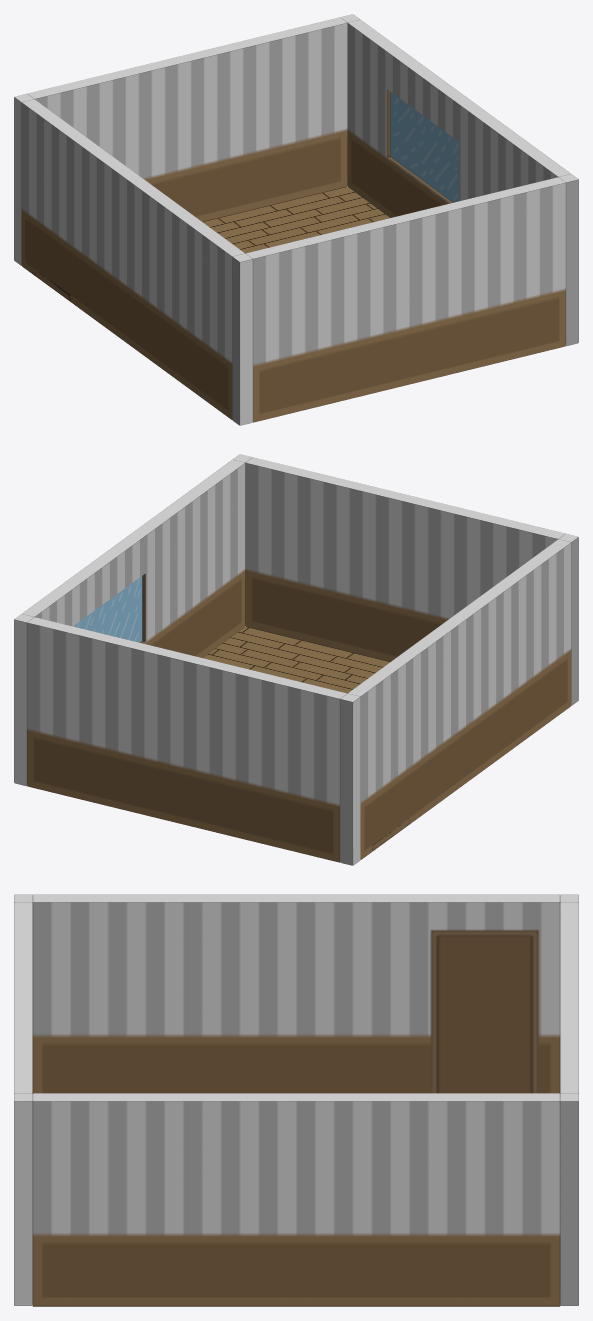
File: bedroom_empty.obj
The picture shows the model from 3 angles, top to bottom: view 1: azimuth 30°, elevation 25°; view 2: azimuth 150°, elevation 25°; view 3: azimuth 270°, elevation 25°; orthographic projection. The views are drawn at different scales.
Visible parts, largest first — view 1: cube; view 2: cube; view 3: cube.
Part boxes in pixels (x1,y1,x2,y2): cube: [14, 14, 578, 425]; cube: [14, 454, 578, 865]; cube: [14, 894, 578, 1306].
Bounding box in the file's own units: 6.5 × 3.12 × 7.5.
Materials: 2 (2 with a texture image).
